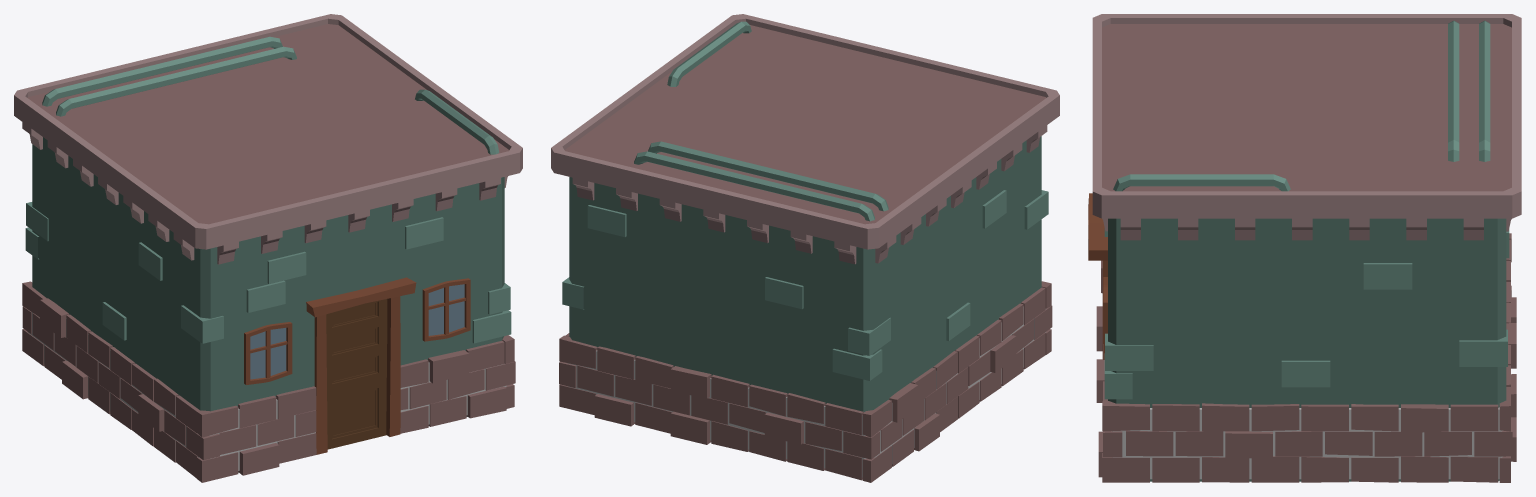
File: 1Story_Mat.glb
The picture shows the model from 3 angles, left to right: view 1: azimuth 30°, elevation 25°; view 2: azimuth 150°, elevation 25°; view 3: azimuth 270°, elevation 25°; orthographic projection. The views are drawn at different scales.
Parts seen in each view (by area): view 1: 1Story_Mat; view 2: 1Story_Mat; view 3: 1Story_Mat.
Boxes of the visible parts, x1,y1,x2,y2 form: 1Story_Mat: [14, 14, 522, 482]; 1Story_Mat: [551, 14, 1059, 482]; 1Story_Mat: [1088, 14, 1521, 482].
Bounding box in the file's own units: 2.15 × 1.67 × 2.17.
